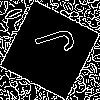J: (25, 25, 76, 63)
